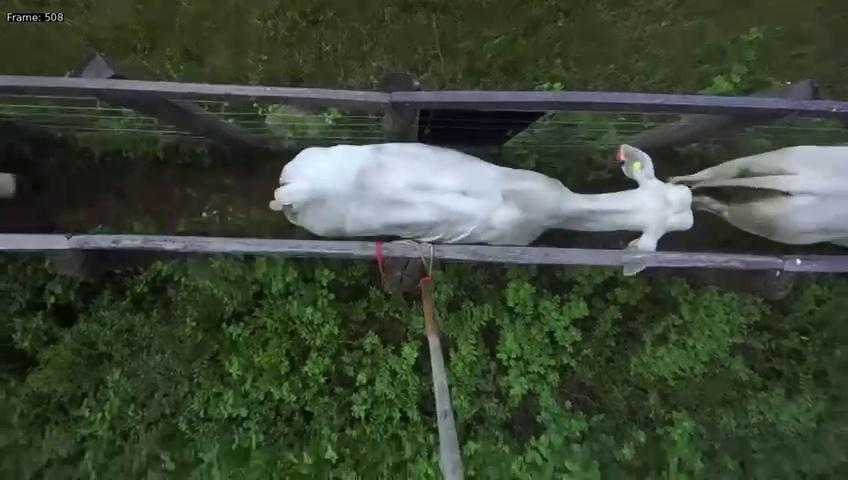cattle: (264, 122, 713, 284)
